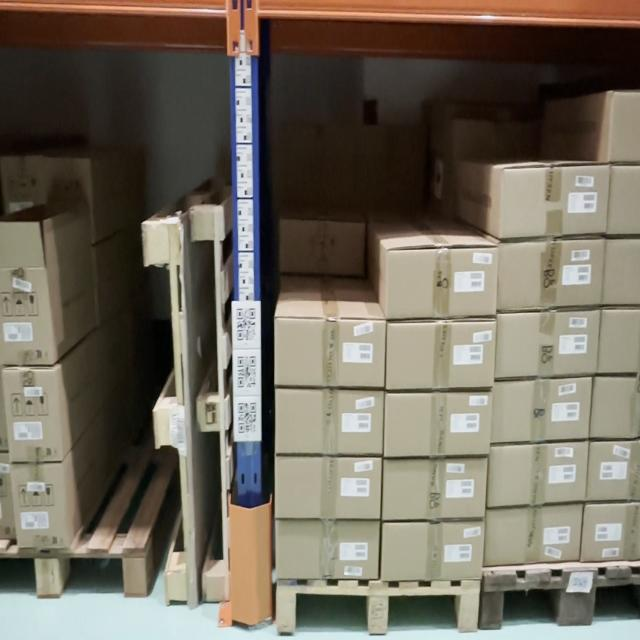box: (501, 167, 608, 237), (387, 251, 496, 319), (387, 324, 495, 388), (275, 392, 382, 455), (277, 322, 382, 385), (387, 394, 490, 456), (503, 242, 602, 306), (276, 459, 381, 519), (497, 314, 598, 376), (494, 381, 590, 442), (492, 444, 586, 506), (384, 462, 486, 518), (276, 521, 379, 576), (488, 508, 580, 566), (383, 526, 483, 577)
